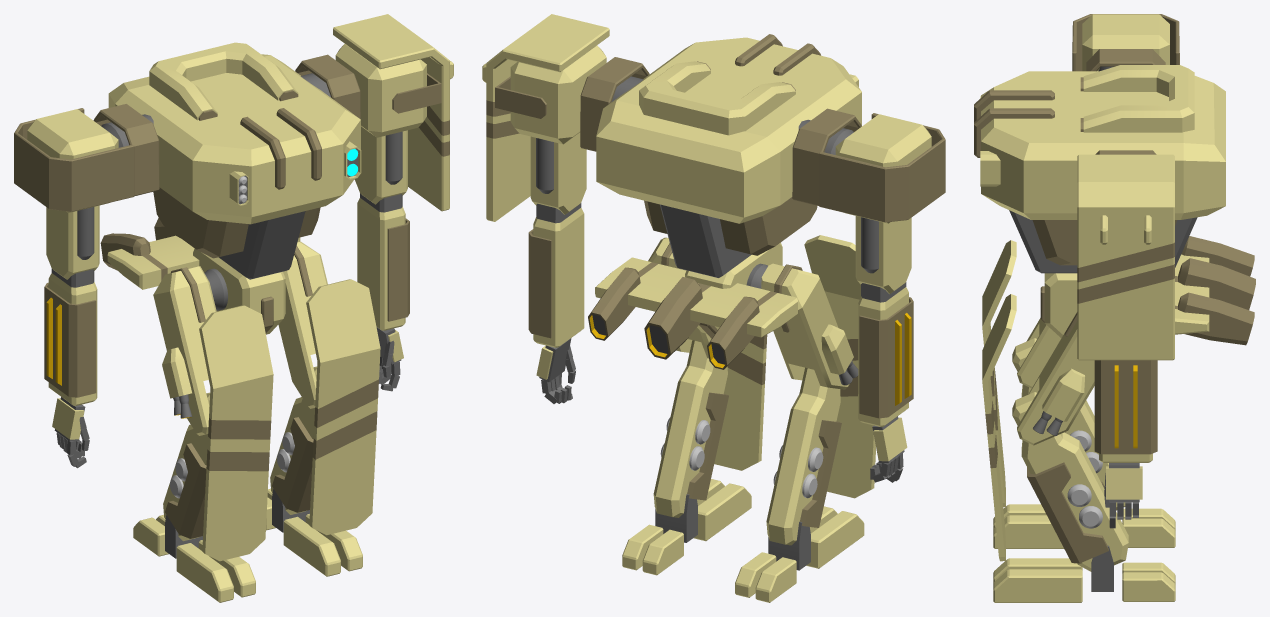
File: Granite.fbx
3 views of the same model, side by side, from view 1: azimuth 30°, elevation 25°; view 2: azimuth 150°, elevation 25°; view 3: azimuth 270°, elevation 25° (orthographic). The views are drawn at different scales.
Parts seen in each view (by area): view 1: pCube20, pCube100, pCube105, pCube64, pCube63, pCube21, pCube92, pCube62, pCube87, pCube80, pCube69, pCube24 (+30 smaller); view 2: pCube20, pCube64, pCube105, pCube63, pCube21, pCube104, pCube99, pCube108, pCube69, pCube92, pCube62, pCube100 (+32 smaller); view 3: pCube20, pCube64, pCube21, pCube71, pCube99, pCube79, pCube87, pCube117, pCube100, pCube115, pCube110, pCube107 (+28 smaller).
Part boxes in pixels (box(x1,y1,x2,y2)): pCube20: box(108, 54, 360, 224); pCube100: box(306, 279, 380, 535); pCube105: box(199, 305, 273, 561); pCube64: box(333, 14, 449, 211); pCube63: box(14, 108, 134, 211); pCube21: box(149, 42, 298, 120); pCube92: box(153, 266, 216, 435); pCube62: box(335, 44, 426, 137); pCube87: box(278, 241, 327, 408); pCube80: box(44, 282, 96, 397); pCube69: box(357, 193, 405, 330); pCube24: box(153, 187, 320, 258); pCube20: box(596, 37, 861, 223); pCube64: box(486, 14, 609, 221); pCube105: box(804, 235, 875, 498); pCube63: box(819, 113, 945, 222); pCube21: box(639, 61, 795, 135); pCube104: box(766, 367, 840, 545); pCube99: box(653, 340, 727, 517); pCube108: box(595, 257, 797, 337); pCube69: box(533, 203, 584, 347); pCube92: box(761, 263, 849, 389); pCube62: box(510, 45, 606, 144); pCube100: box(714, 334, 767, 470); pCube20: box(981, 71, 1225, 219); pCube64: box(1077, 154, 1174, 360); pCube21: box(1080, 65, 1194, 132); pCube71: box(1094, 360, 1157, 454); pCube99: box(1012, 392, 1128, 571); pCube79: box(1082, 14, 1169, 71); pCube87: box(1017, 312, 1094, 445); pCube117: box(1027, 462, 1108, 563); pCube100: box(982, 294, 1016, 561); pCube115: box(993, 569, 1082, 602); pCube110: box(1178, 292, 1254, 345); pCube107: box(1178, 258, 1255, 309).
Bounding box in the file's own units: 22.35 × 24.17 × 12.88.
